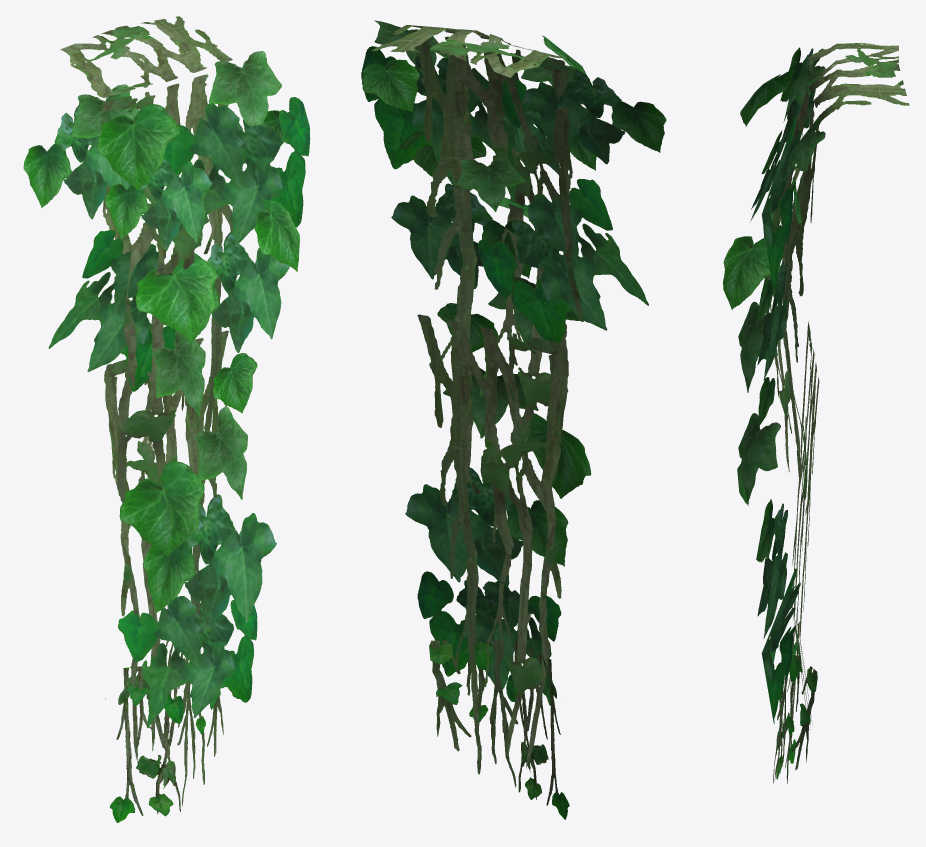
Rendered from ivy_b.fbx.
3 views of the same model, side by side, from view 1: azimuth 30°, elevation 25°; view 2: azimuth 150°, elevation 25°; view 3: azimuth 270°, elevation 25° (orthographic). The views are drawn at different scales.
Visible parts, largest first — view 1: ivy_b; view 2: ivy_b; view 3: ivy_b.
Boxes of the visible parts, box(x1,y1,x2,y2) form: ivy_b: box(23, 16, 310, 822); ivy_b: box(361, 20, 666, 819); ivy_b: box(723, 42, 909, 783).
Size of the model in its own units: 206 by 501 by 124.
